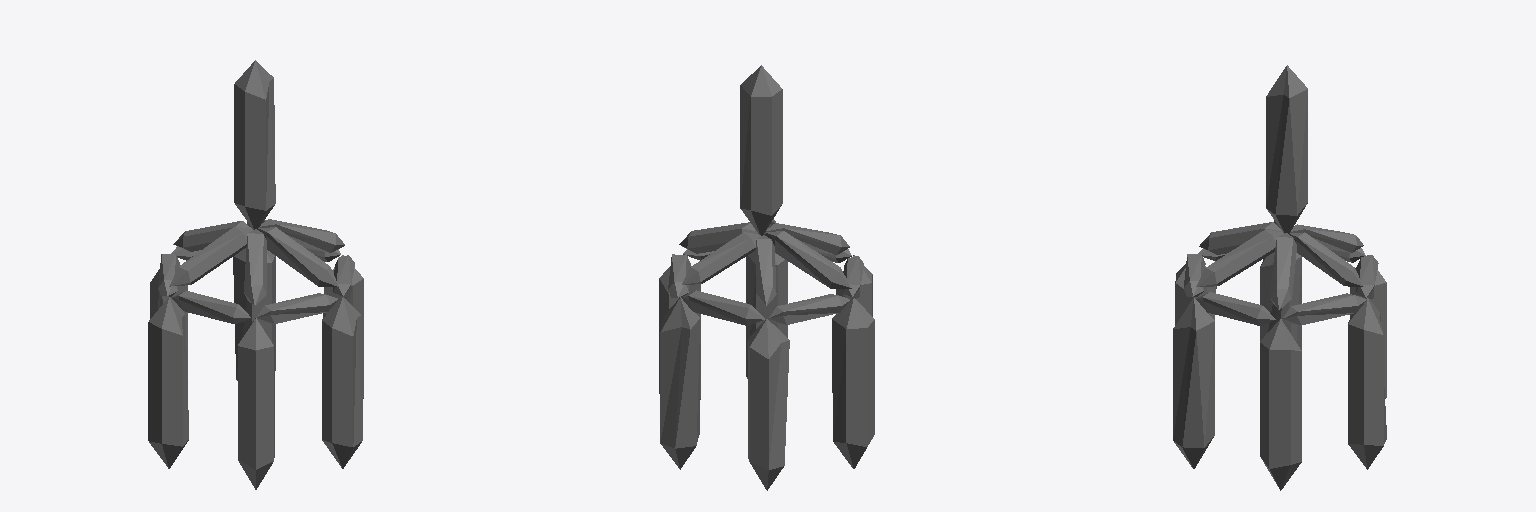
The model's file is Lustre.obj.
3 views of the same model, side by side, from view 1: azimuth 30°, elevation 25°; view 2: azimuth 150°, elevation 25°; view 3: azimuth 270°, elevation 25° (orthographic).
Parts seen in each view (by area): view 1: pCylinder19 Lustre, Lustre pCylinder6, Lustre pCylinder4, Lustre pCylinder5, Lustre pCylinder17, Lustre pCylinder13, Lustre pCylinder2, Lustre pCylinder18, Lustre pCylinder12, Lustre pCylinder11, Lustre pCylinder14, Lustre pCylinder16 (+4 smaller); view 2: pCylinder19 Lustre, Lustre pCylinder4, Lustre pCylinder2, Lustre pCylinder3, Lustre pCylinder17, Lustre pCylinder6, Lustre pCylinder15, Lustre pCylinder9, Lustre pCylinder10, Lustre pCylinder14, Lustre pCylinder16, Lustre pCylinder18 (+4 smaller); view 3: Lustre pCylinder6, Lustre pCylinder1, pCylinder19 Lustre, Lustre pCylinder2, Lustre pCylinder13, Lustre pCylinder4, Lustre pCylinder15, Lustre pCylinder8, Lustre pCylinder14, Lustre pCylinder7, Lustre pCylinder18, Lustre pCylinder16 (+4 smaller).
Part boxes in pixels (left/top/right/bottom): pCylinder19 Lustre: left=234, top=60, right=275, bottom=229; Lustre pCylinder6: left=322, top=297, right=362, bottom=468; Lustre pCylinder4: left=148, top=297, right=188, bottom=468; Lustre pCylinder5: left=238, top=318, right=274, bottom=489; Lustre pCylinder17: left=169, top=227, right=252, bottom=286; Lustre pCylinder13: left=258, top=227, right=338, bottom=286; Lustre pCylinder2: left=233, top=248, right=275, bottom=380; Lustre pCylinder18: left=244, top=229, right=266, bottom=305; Lustre pCylinder12: left=256, top=293, right=338, bottom=323; Lustre pCylinder11: left=172, top=291, right=251, bottom=323; Lustre pCylinder14: left=259, top=219, right=344, bottom=252; Lustre pCylinder16: left=173, top=221, right=251, bottom=251; pCylinder19 Lustre: left=740, top=65, right=782, bottom=235; Lustre pCylinder4: left=832, top=298, right=874, bottom=468; Lustre pCylinder2: left=660, top=297, right=699, bottom=469; Lustre pCylinder3: left=748, top=319, right=789, bottom=490; Lustre pCylinder17: left=766, top=231, right=851, bottom=288; Lustre pCylinder6: left=746, top=250, right=787, bottom=378; Lustre pCylinder15: left=682, top=232, right=760, bottom=284; Lustre pCylinder9: left=681, top=290, right=764, bottom=325; Lustre pCylinder10: left=769, top=294, right=850, bottom=324; Lustre pCylinder14: left=679, top=222, right=757, bottom=253; Lustre pCylinder16: left=756, top=235, right=776, bottom=305; Lustre pCylinder18: left=765, top=223, right=849, bottom=255; Lustre pCylinder6: left=1173, top=298, right=1214, bottom=468; Lustre pCylinder1: left=1260, top=319, right=1301, bottom=490; pCylinder19 Lustre: left=1266, top=65, right=1307, bottom=233; Lustre pCylinder2: left=1348, top=297, right=1386, bottom=469; Lustre pCylinder13: left=1196, top=230, right=1283, bottom=286; Lustre pCylinder4: left=1260, top=252, right=1301, bottom=349; Lustre pCylinder15: left=1289, top=232, right=1363, bottom=286; Lustre pCylinder8: left=1283, top=293, right=1367, bottom=325; Lustre pCylinder14: left=1269, top=233, right=1296, bottom=309; Lustre pCylinder7: left=1196, top=292, right=1275, bottom=325; Lustre pCylinder18: left=1199, top=222, right=1282, bottom=254; Lustre pCylinder16: left=1290, top=224, right=1363, bottom=252.
Bounding box in the file's own units: 18.83 × 33.51 × 16.89.